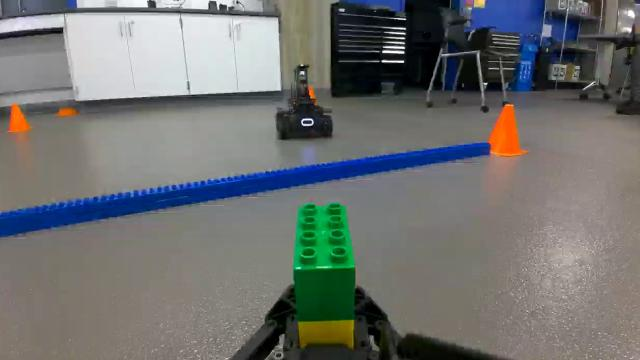robot: (273, 61, 337, 142)
